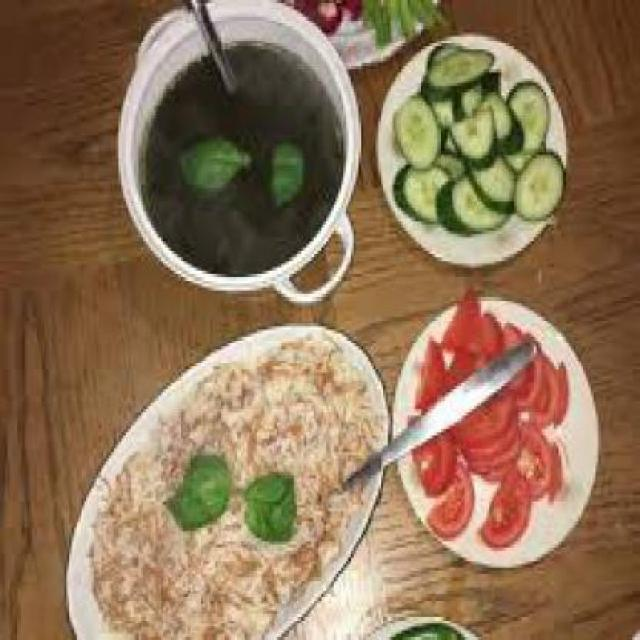fried rice: (80, 323, 382, 637)
molokhia: (136, 29, 347, 288)
